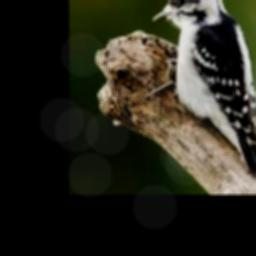Woodpecker: (143, 0, 256, 187)
